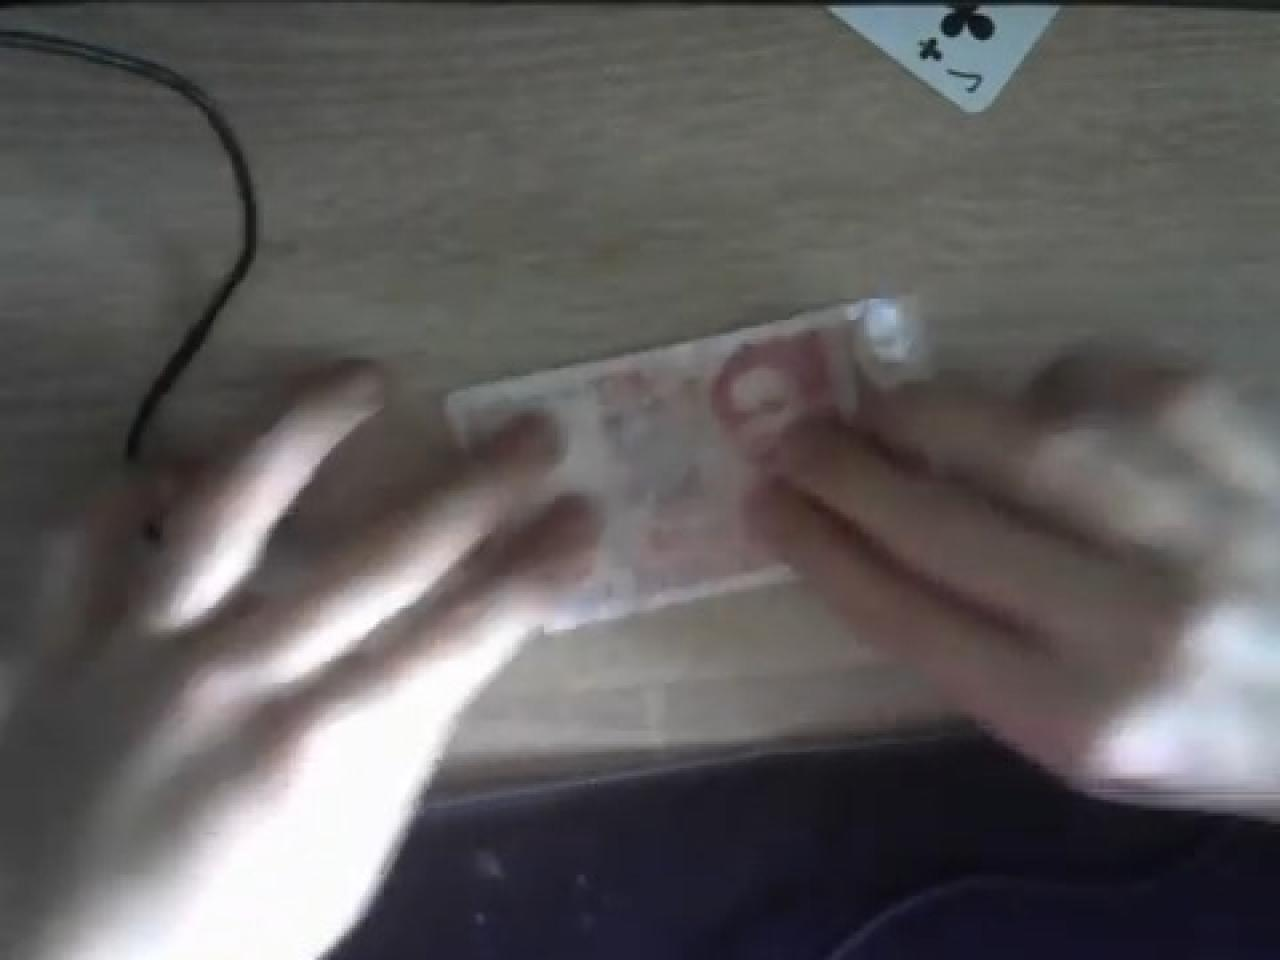5leva: (445, 293, 925, 629)
